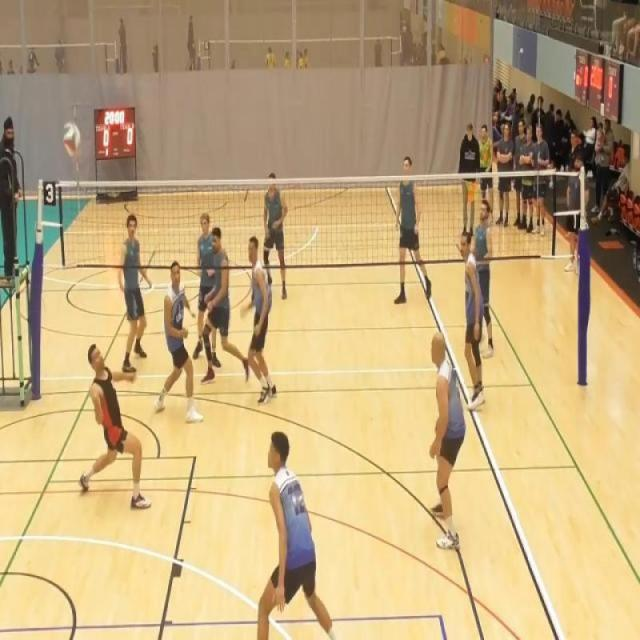volleyball: (63, 120, 83, 160)
